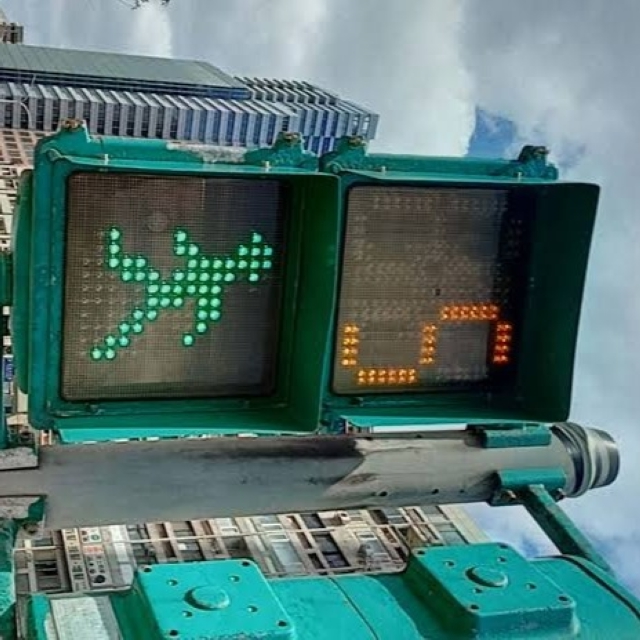green_light: (35, 134, 597, 434)
